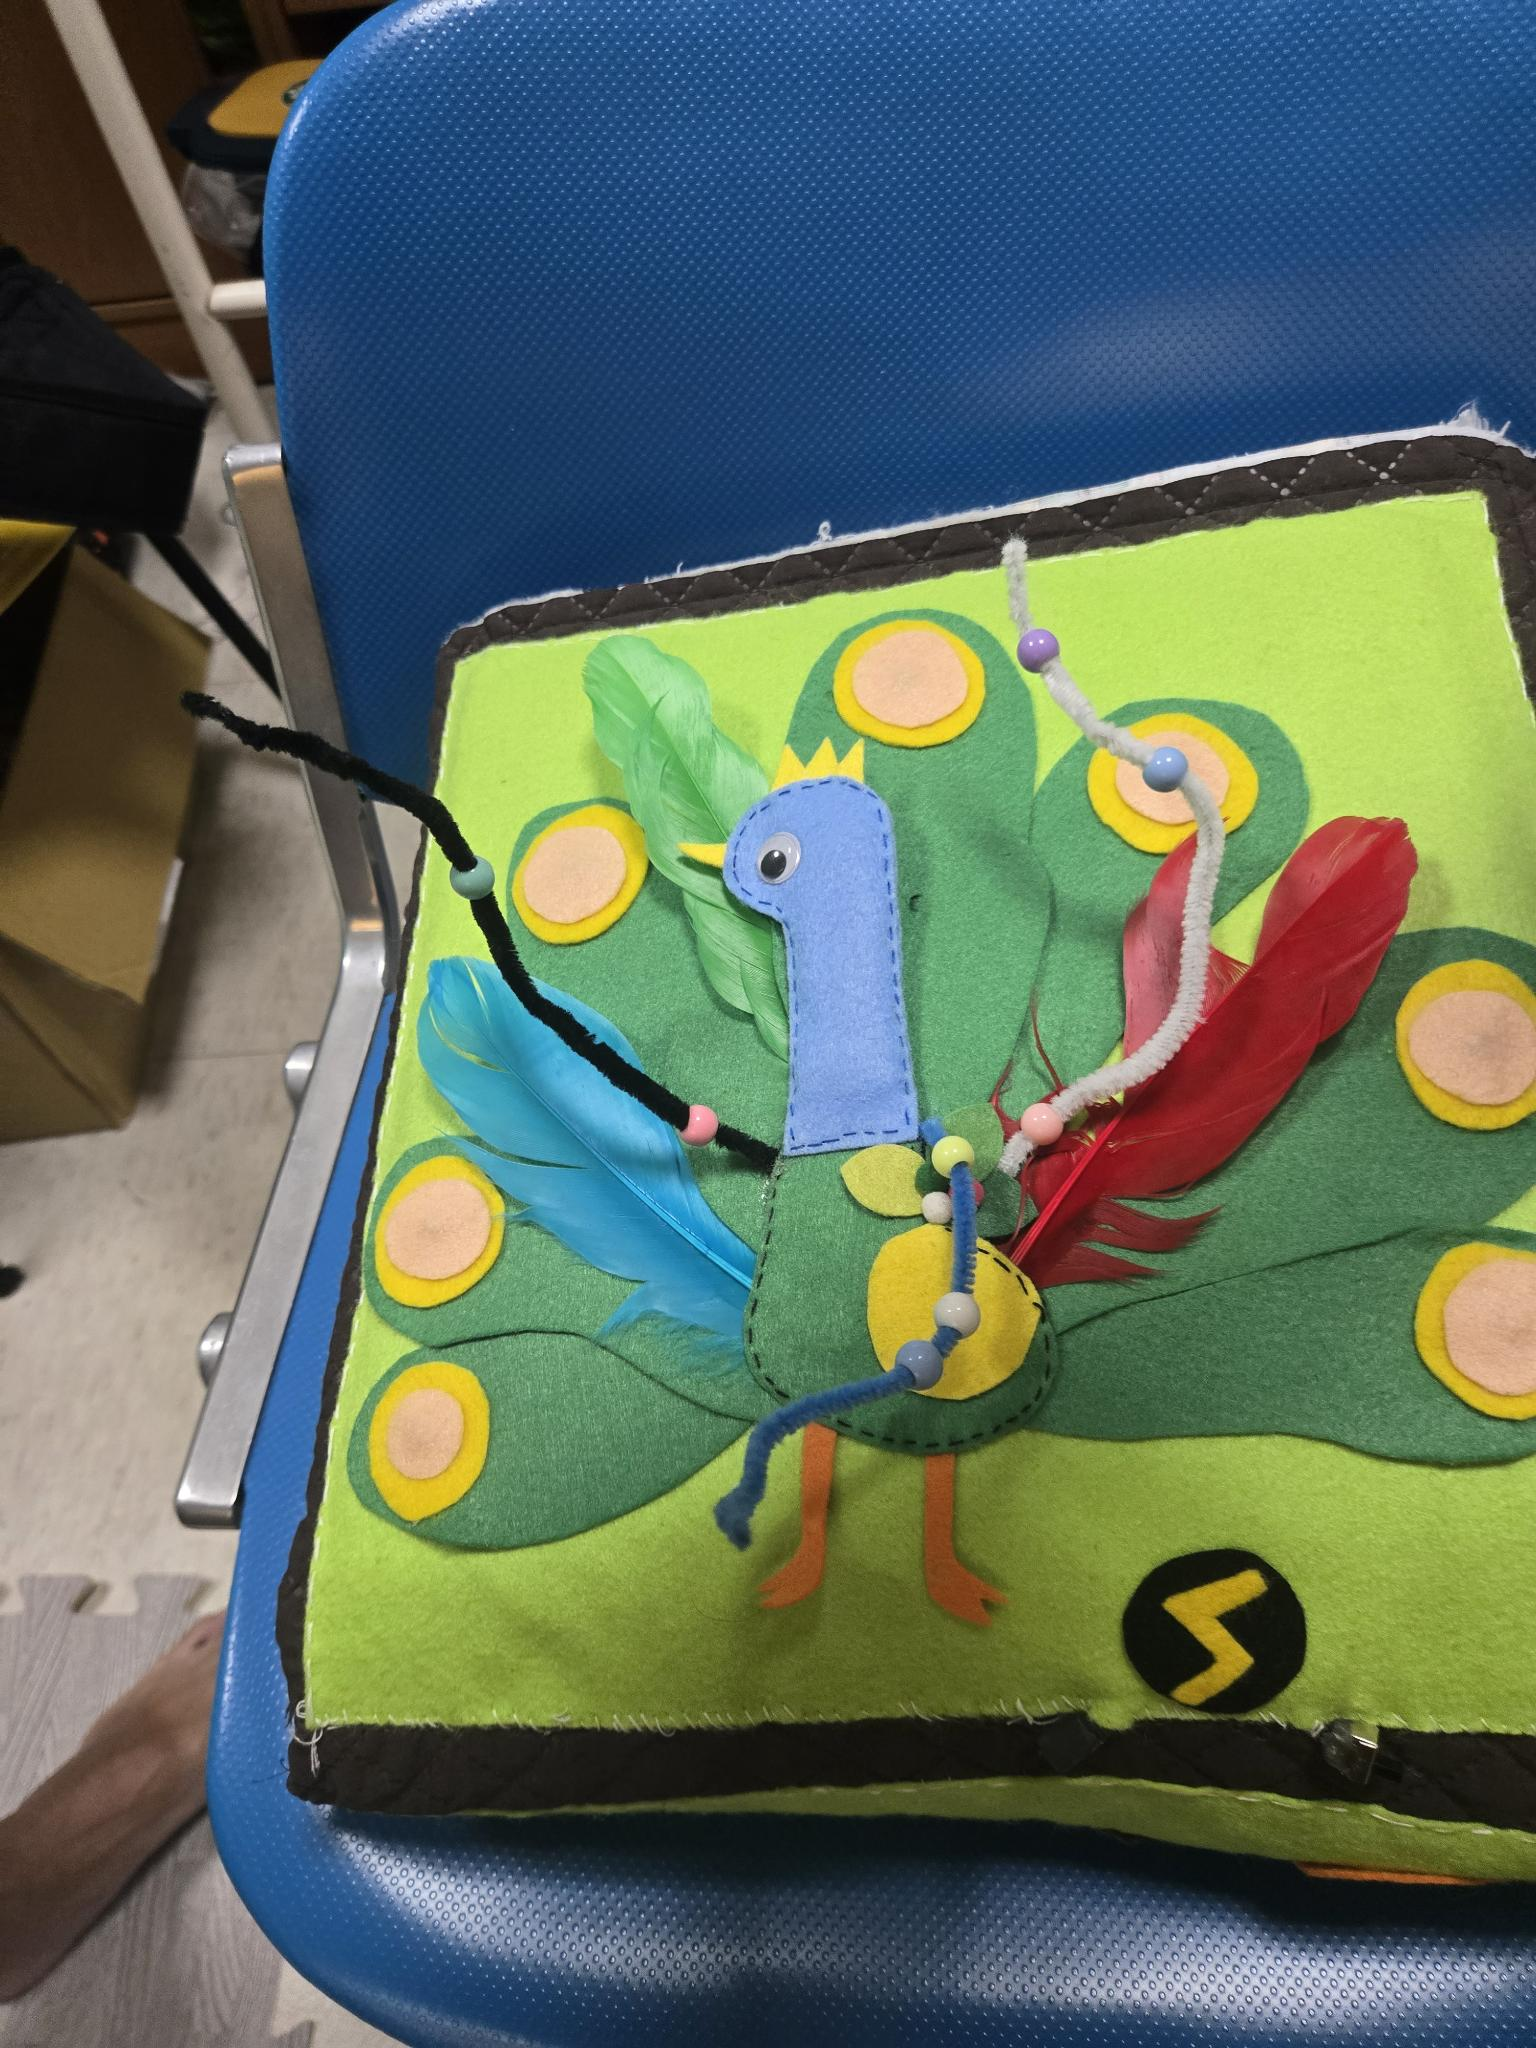bead: (436, 835, 515, 927), (666, 1097, 744, 1177), (1004, 626, 1075, 701), (1142, 739, 1199, 818), (1013, 1087, 1075, 1156), (912, 1122, 973, 1190), (892, 1337, 960, 1395), (928, 1287, 984, 1342)
